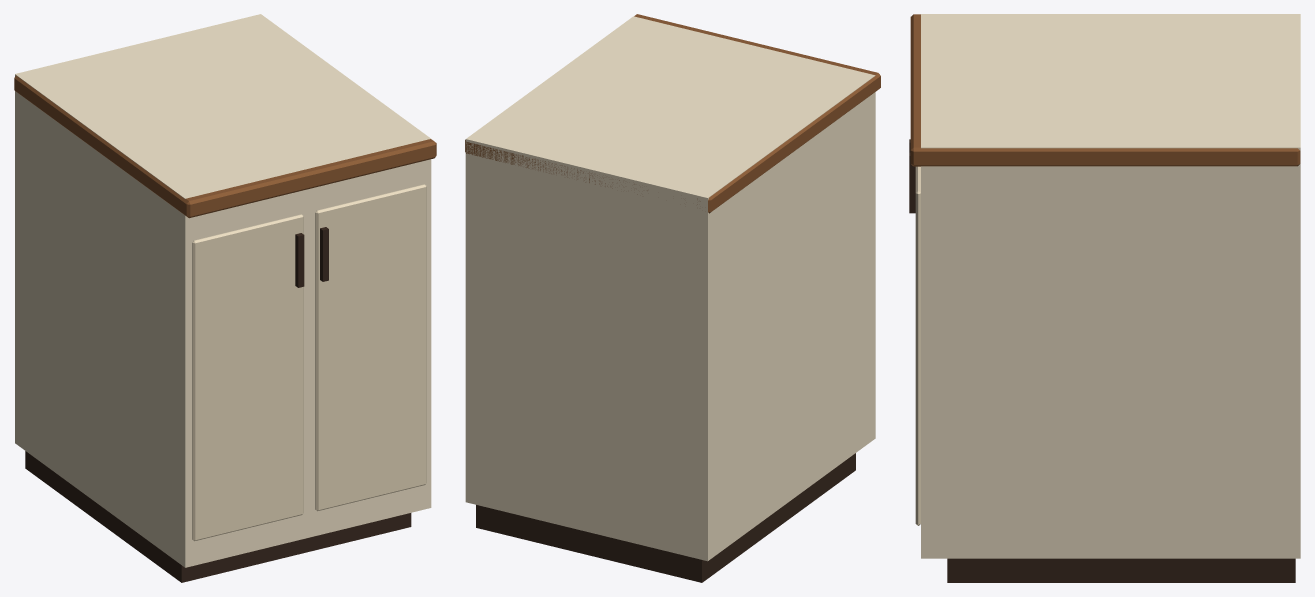
The model's file is counter_section.fbx.
3 renders of one model, left to right at view 1: azimuth 30°, elevation 25°; view 2: azimuth 150°, elevation 25°; view 3: azimuth 270°, elevation 25°, orthographic. The views are drawn at different scales.
Parts seen in each view (by area): view 1: counter_section; view 2: counter_section; view 3: counter_section.
Part boxes in pixels (box(x1,y1,x2,y2)): counter_section: box(14, 14, 436, 582); counter_section: box(465, 14, 880, 582); counter_section: box(909, 14, 1300, 582).
Bounding box in the file's own units: 0.61 × 0.92 × 0.7425.
